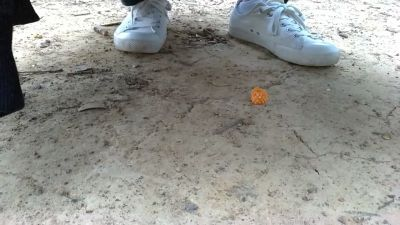eggs: (251, 82, 269, 109)
